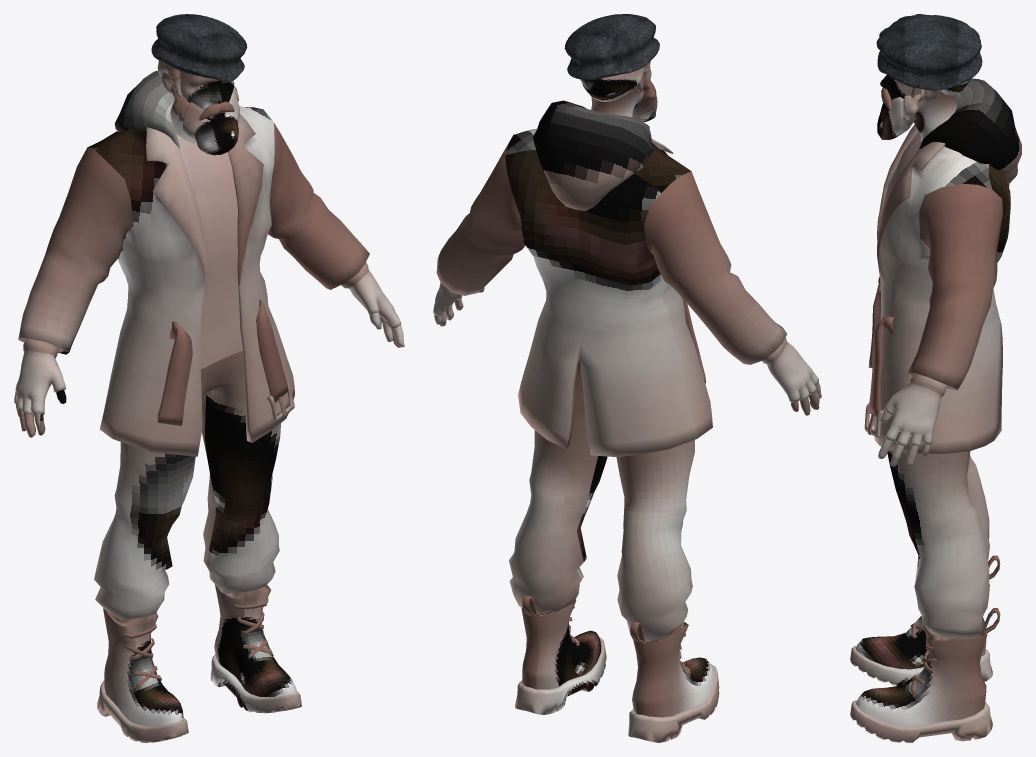
The model's file is Da vinci.fbx.
The picture shows the model from 3 angles, left to right: view 1: azimuth 30°, elevation 25°; view 2: azimuth 150°, elevation 25°; view 3: azimuth 270°, elevation 25°; orthographic projection.
Visible parts, largest first — view 1: Wolf3D_Outfit_Top, Wolf3D_Outfit_Bottom, Wolf3D_Outfit_Footwear, Circle_001.001, Wolf3D_Beard, Wolf3D_Head, Wolf3D_Body; view 2: Wolf3D_Outfit_Top, Wolf3D_Outfit_Bottom, Wolf3D_Outfit_Footwear, Circle_001.001, Wolf3D_Hair, Wolf3D_Head, Wolf3D_Body, Wolf3D_Beard; view 3: Wolf3D_Outfit_Top, Wolf3D_Outfit_Bottom, Wolf3D_Outfit_Footwear, Circle_001.001, Wolf3D_Head, Wolf3D_Beard, Wolf3D_Body.
Boxes of the visible parts, x1,y1,x2,y2 form: Wolf3D_Outfit_Top: (14,70,401,456); Wolf3D_Outfit_Bottom: (94,351,280,620); Wolf3D_Outfit_Footwear: (97,584,301,742); Circle_001.001: (151,14,247,81); Wolf3D_Beard: (171,83,239,155); Wolf3D_Head: (161,71,233,143); Wolf3D_Body: (16,312,404,437); Wolf3D_Outfit_Top: (433,100,818,457); Wolf3D_Outfit_Bottom: (509,360,694,641); Wolf3D_Outfit_Footwear: (515,595,719,742); Circle_001.001: (564,14,659,79); Wolf3D_Hair: (580,63,650,101); Wolf3D_Head: (591,61,651,117); Wolf3D_Body: (434,287,821,415); Wolf3D_Beard: (632,76,657,121); Wolf3D_Outfit_Top: (864,78,1021,453); Wolf3D_Outfit_Bottom: (887,450,989,639); Wolf3D_Outfit_Footwear: (850,555,1000,742); Circle_001.001: (876,14,982,90); Wolf3D_Head: (880,75,957,141); Wolf3D_Beard: (877,87,924,139); Wolf3D_Body: (878,276,930,466).
Bounding box in the file's own units: 106 × 186 × 42.48.
